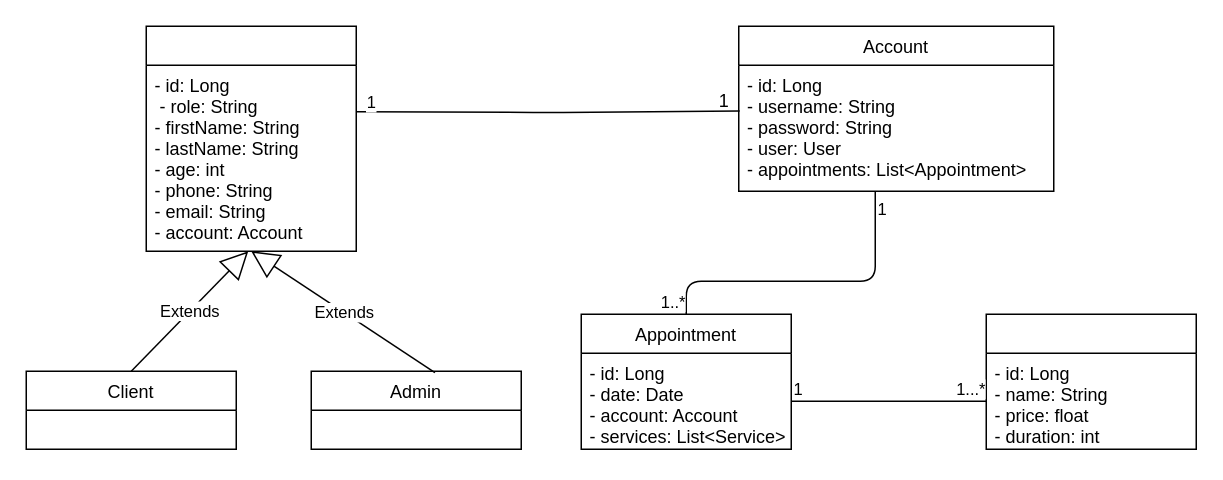
This 1223x480 diagram has some shape labels left out. The shapes that lost their labels are listed below. From the top down, each one's box as (x1, y1, x2, y2) in pixels, then its label:
(145, 25, 356, 251): User
(985, 313, 1196, 449): Service
